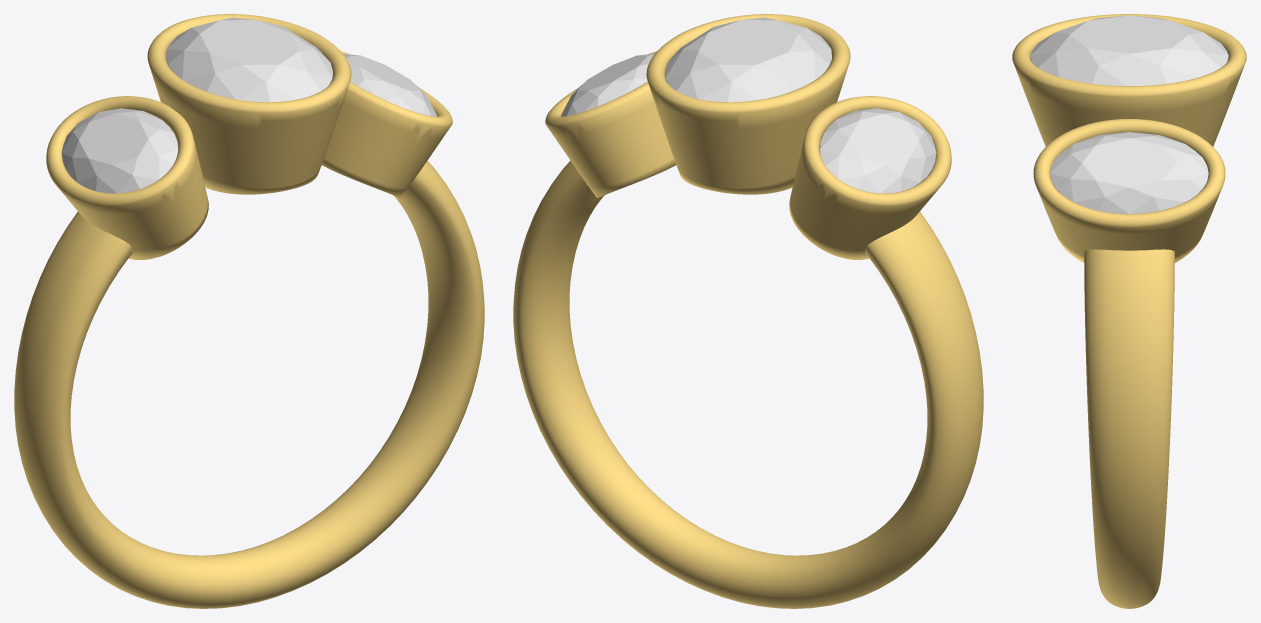
File: diamond-oval-yellowgold-bezelset-taperedband-3stone.glb
3 renders of one model, left to right at view 1: azimuth 30°, elevation 25°; view 2: azimuth 150°, elevation 25°; view 3: azimuth 270°, elevation 25°, orthographic.
Parts seen in each view (by area): view 1: metal, stone.002, side.004, side.005; view 2: metal, stone.002, side.004, side.005; view 3: metal, stone.002, side.005.
Part boxes in pixels (box(x1,y1,x2,y2)): metal: box(14, 14, 484, 608); stone.002: box(166, 17, 332, 102); side.004: box(61, 108, 178, 193); side.005: box(343, 53, 437, 116); metal: box(513, 14, 983, 608); stone.002: box(665, 17, 831, 102); side.004: box(819, 108, 936, 193); side.005: box(560, 53, 654, 116); metal: box(1012, 14, 1246, 608); stone.002: box(1030, 15, 1228, 85); side.005: box(1050, 132, 1208, 213).
Bounding box in the file's own units: 19.89 × 23.4 × 9.04.
